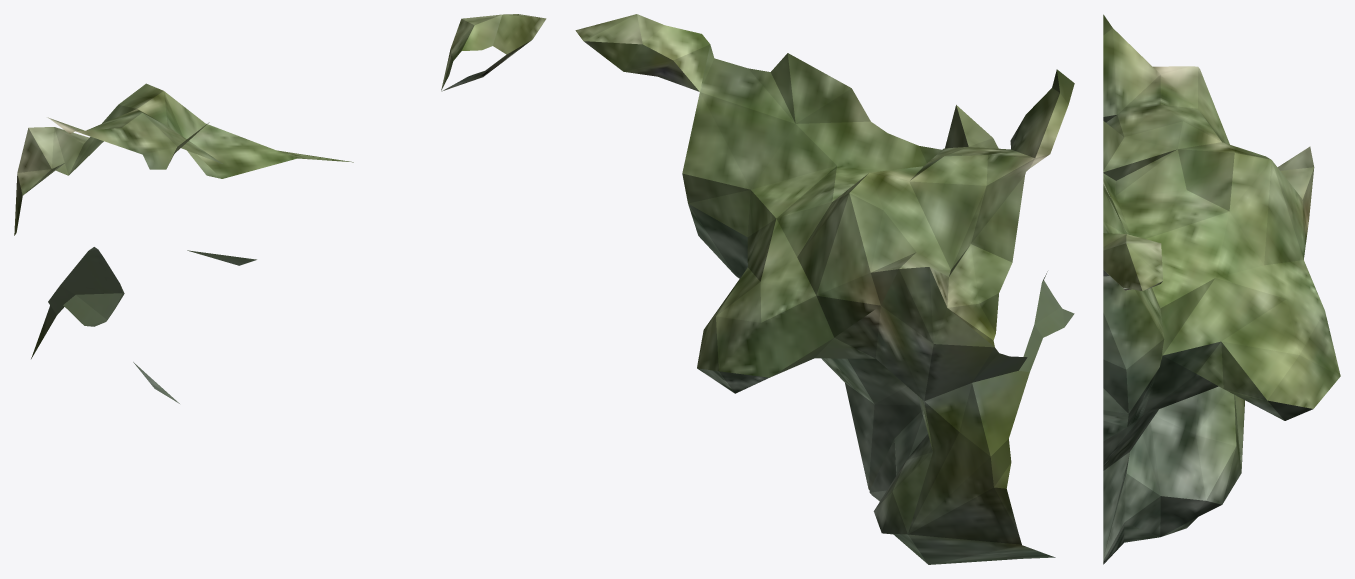
3 views of the same model, side by side, from view 1: azimuth 30°, elevation 25°; view 2: azimuth 150°, elevation 25°; view 3: azimuth 270°, elevation 25° (orthographic). The views are drawn at different scales.
Bounding box in the file's own units: 1.17 × 1.18 × 0.5144.
Materials: 1 (1 with a texture image).
